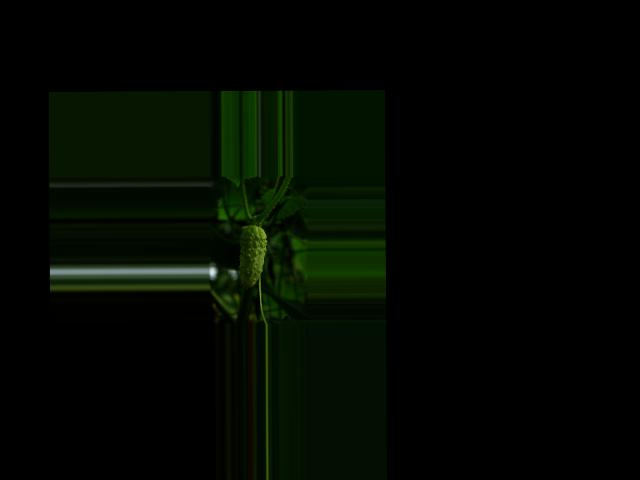cucumber: (239, 224, 267, 290)
